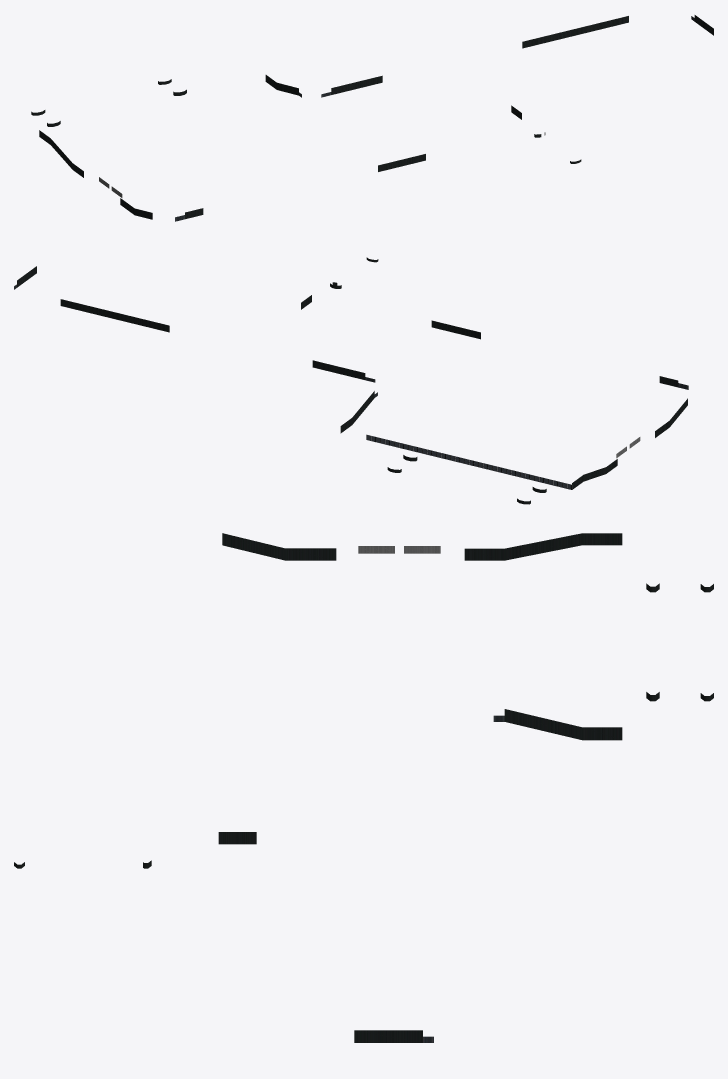
Rendered from invisible_walls.glb.
3 views of the same model, one above another, from view 1: azimuth 30°, elevation 25°; view 2: azimuth 150°, elevation 25°; view 3: azimuth 270°, elevation 25° (orthographic). The views are drawn at different scales.
Visible parts, largest first — view 1: stone.jpg__; view 2: stone.jpg__, tile3b.jpg__; view 3: stone.jpg__.
Part boxes in pixels (x1,y1,x2,y2): stone.jpg__: [31, 15, 713, 219]; stone.jpg__: [17, 257, 687, 504]; tile3b.jpg__: [366, 434, 572, 489]; stone.jpg__: [14, 533, 713, 1042].
Size of the model in its own units: 7.56 by 0.3028 by 4.11.
Materials: 4 (4 with a texture image).
